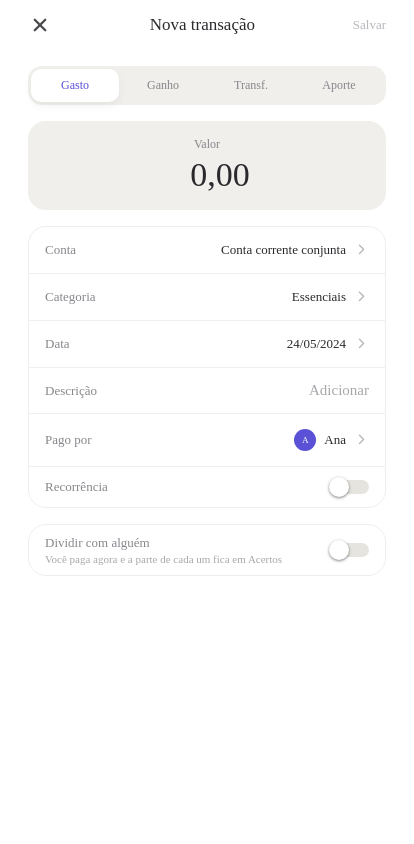
Test case: Nova transação › trocar o tipo troca a categoria padrão
Click the text "Ganho".
click(163, 86)  # box [147,78,179,93]
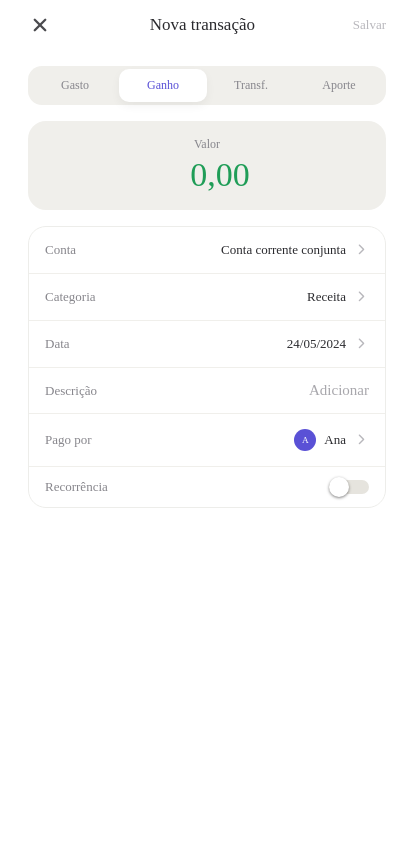
Expected: the text "Receita" is shown, [307,289,346,305]
Expected: the text "Essenciais" is gone
